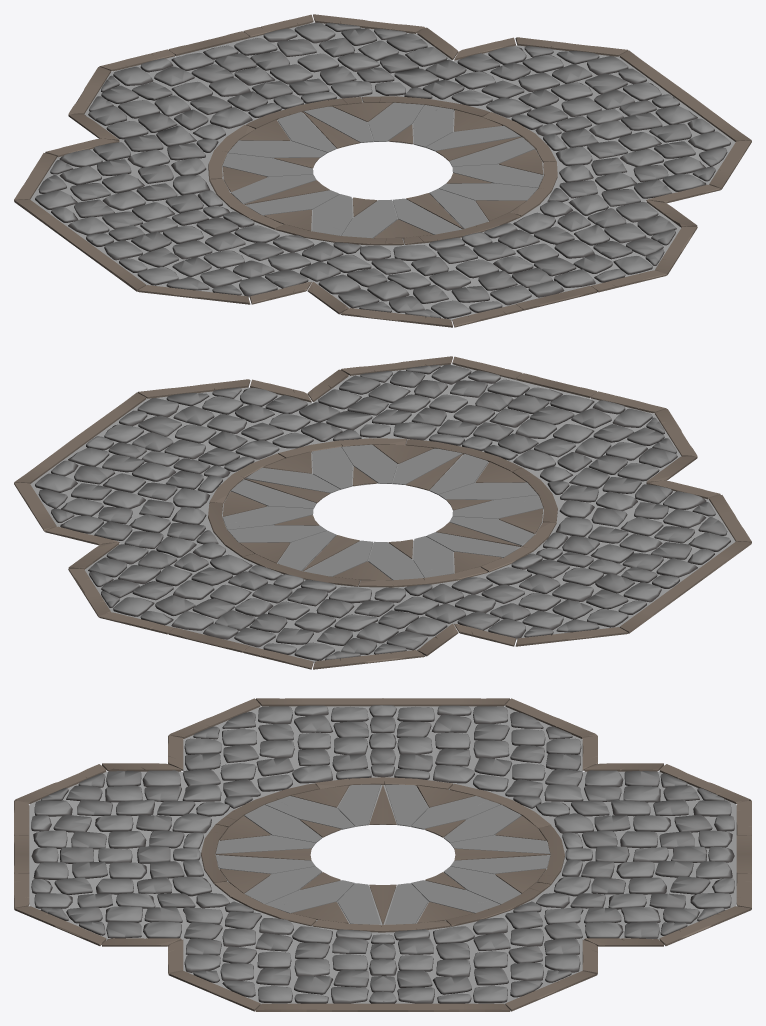
The model's file is obj_squard.fbx.
3 renders of one model, top to bottom at view 1: azimuth 30°, elevation 25°; view 2: azimuth 150°, elevation 25°; view 3: azimuth 270°, elevation 25°, orthographic. The views are drawn at different scales.
Visible parts, largest first — view 1: Circle.004; view 2: Circle.004; view 3: Circle.004.
Boxes of the visible parts, x1,y1,x2,y2 form: Circle.004: (14,14,751,327); Circle.004: (14,356,751,669); Circle.004: (14,698,751,1011).
Bounding box in the file's own units: 1019 × 1019 × 4.74.
